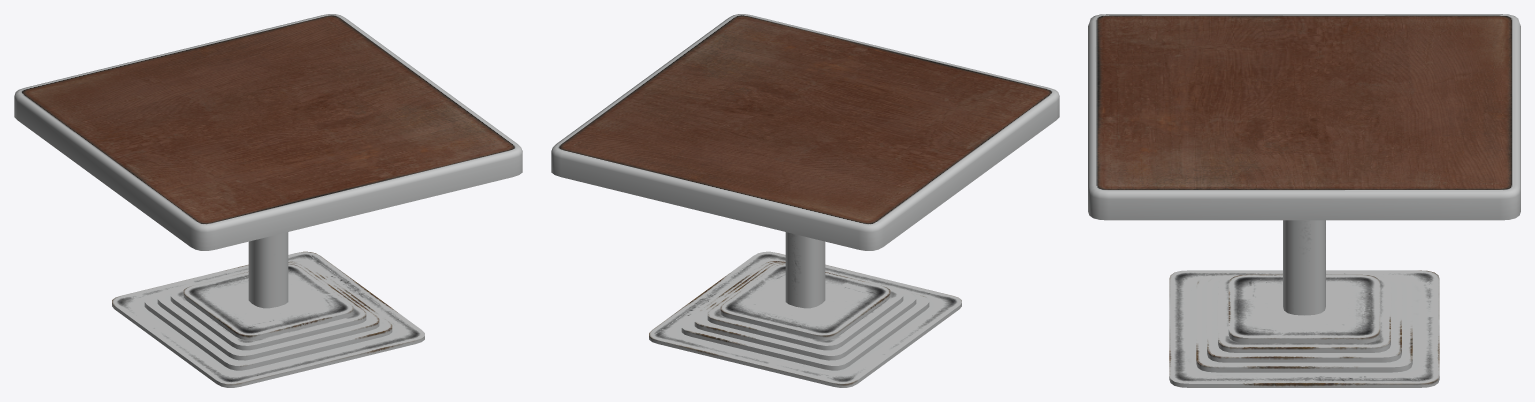
The model's file is Prop_BoxTable.fbx.
3 renders of one model, left to right at view 1: azimuth 30°, elevation 25°; view 2: azimuth 150°, elevation 25°; view 3: azimuth 270°, elevation 25°, orthographic. The views are drawn at different scales.
Parts seen in each view (by area): view 1: Prop_BoxTable; view 2: Prop_BoxTable; view 3: Prop_BoxTable.
Part boxes in pixels (x1,y1,x2,y2): Prop_BoxTable: (14,14,522,387); Prop_BoxTable: (551,14,1059,387); Prop_BoxTable: (1088,14,1520,387).
Size of the model in its own units: 56.47 by 33.1 by 56.85.
